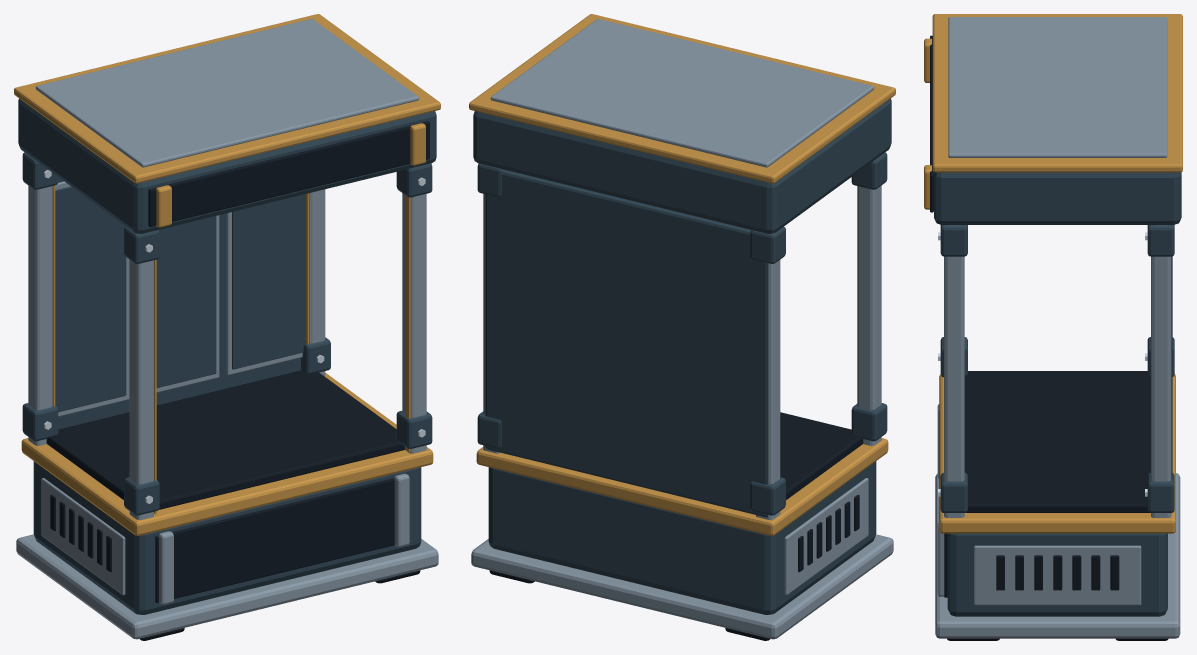
Rendered from cabinet.glb.
3 views of the same model, side by side, from view 1: azimuth 30°, elevation 25°; view 2: azimuth 150°, elevation 25°; view 3: azimuth 270°, elevation 25° (orthographic).
Parts seen in each view (by area): view 1: cabinet__steel, cabinet__enamel, cabinet__dark, cabinet__brass; view 2: cabinet__enamel, cabinet__steel, cabinet__brass, cabinet__dark; view 3: cabinet__steel, cabinet__dark, cabinet__enamel, cabinet__brass.
Boxes of the visible parts, left/top/right/bottom form: cabinet__steel: left=16, top=19, right=438, bottom=639; cabinet__enamel: left=18, top=98, right=436, bottom=614; cabinet__dark: left=46, top=121, right=429, bottom=640; cabinet__brass: left=14, top=14, right=440, bottom=535; cabinet__enamel: left=473, top=98, right=891, bottom=614; cabinet__steel: left=471, top=19, right=893, bottom=639; cabinet__brass: left=469, top=14, right=895, bottom=535; cabinet__dark: left=489, top=412, right=863, bottom=640; cabinet__steel: left=935, top=17, right=1180, bottom=638; cabinet__dark: left=930, top=35, right=1168, bottom=640; cabinet__enamel: left=934, top=172, right=1181, bottom=616; cabinet__brass: left=924, top=14, right=1182, bottom=533.
Size of the model in its own units: 2.65 by 3.95 by 1.9.
